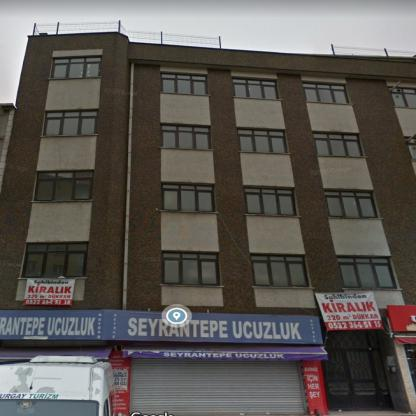door: (325, 350, 389, 409)
window: (23, 243, 88, 277), (163, 251, 218, 284), (34, 170, 94, 200), (337, 257, 395, 287), (251, 256, 306, 286), (162, 183, 214, 212), (245, 187, 295, 215), (43, 110, 97, 134), (325, 191, 376, 216), (237, 128, 287, 153), (312, 132, 362, 156), (161, 125, 209, 148), (161, 72, 207, 94), (52, 56, 100, 77), (232, 78, 278, 99), (302, 83, 349, 103), (324, 332, 376, 346), (389, 86, 416, 107), (405, 138, 415, 160)
